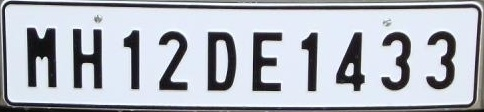character: (377, 28, 412, 94), (69, 26, 104, 91), (250, 29, 284, 94), (203, 28, 237, 92), (25, 25, 58, 89), (333, 28, 365, 92), (424, 29, 456, 92), (156, 30, 189, 91), (299, 29, 322, 94), (121, 29, 142, 92)
